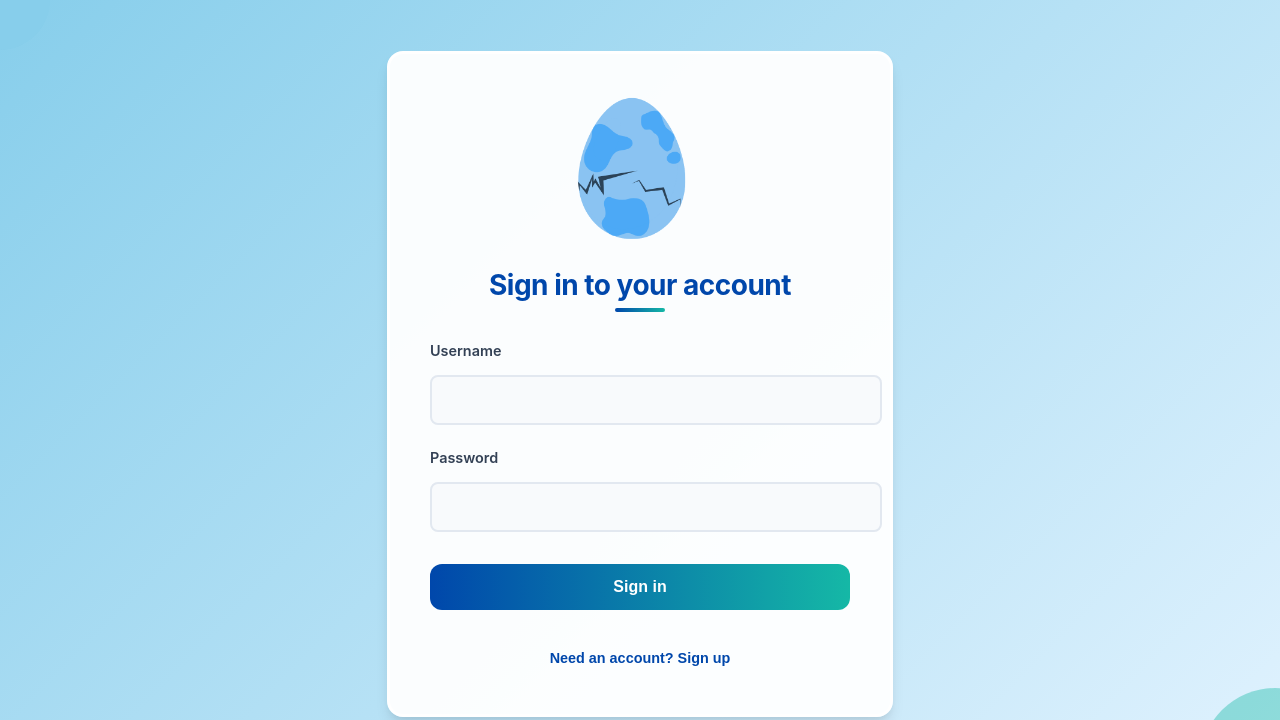
Test case: LoginPage Component › handles failed login
// Fill in the login form
Step 1. Type "testuser" into the field labelled "Username" → (656, 400), box [430,375,882,425]
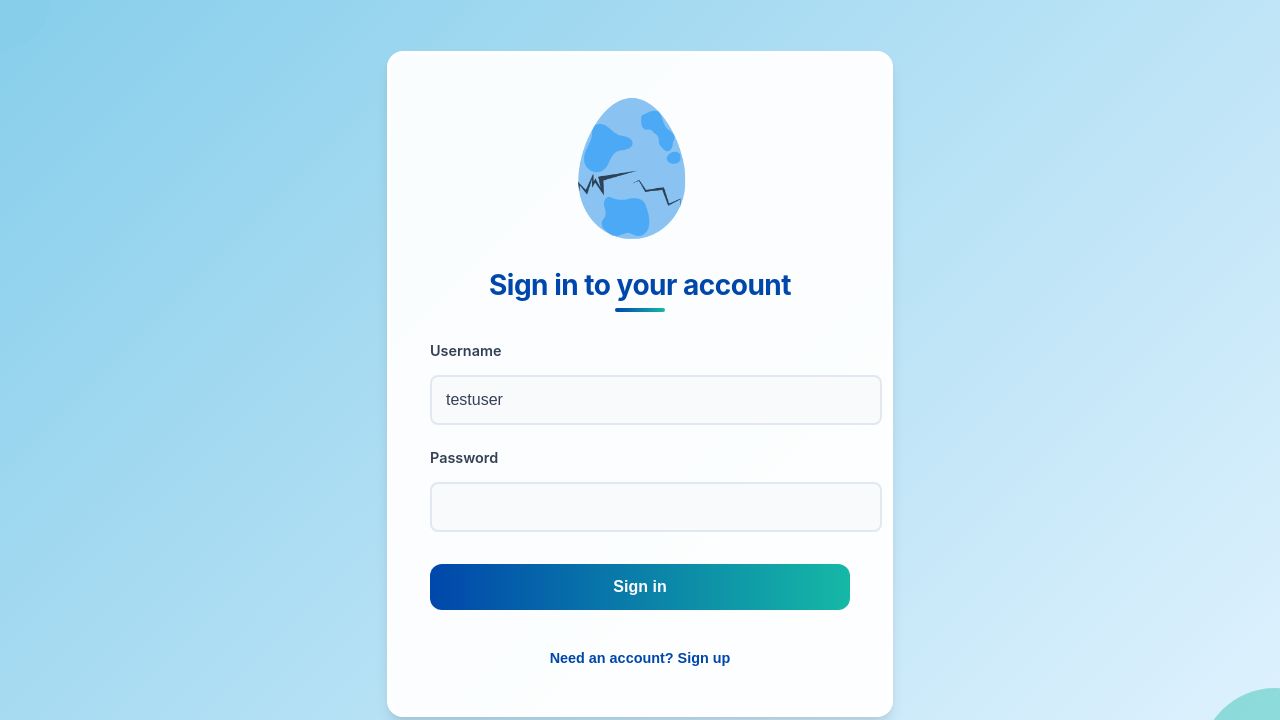
Step 2. Type "wrongpassword" into the password field labelled "Password" → (656, 507), box [430,482,882,532]
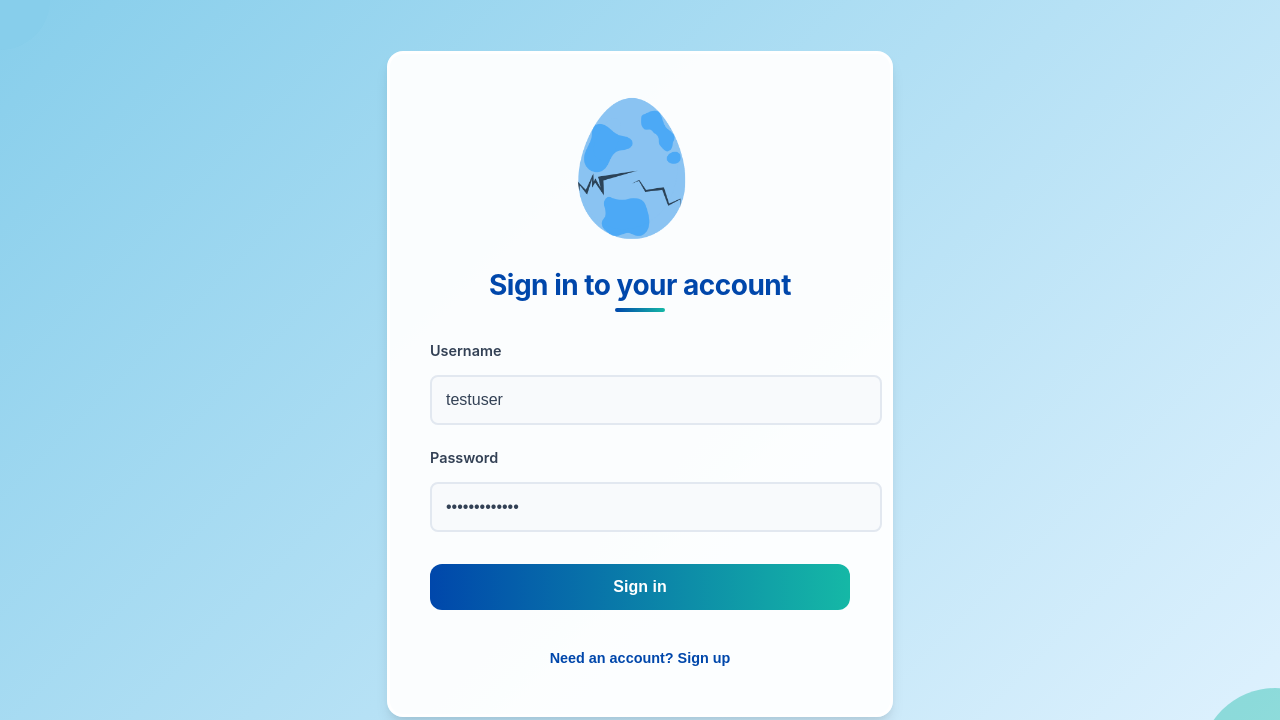
// Submit the form
Step 3. Click the button "Sign in" → (640, 587), box [430,564,850,610]
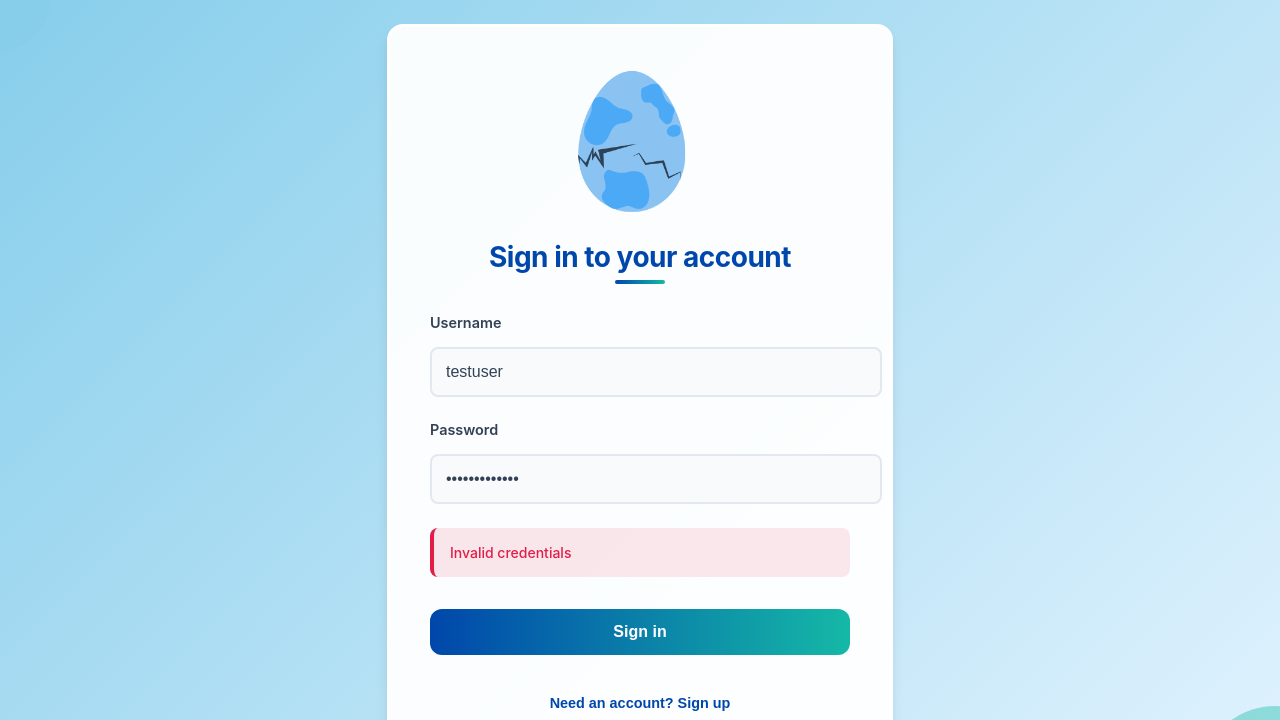
Check: the text "Invalid credentials" is shown, box [430,528,850,577]
